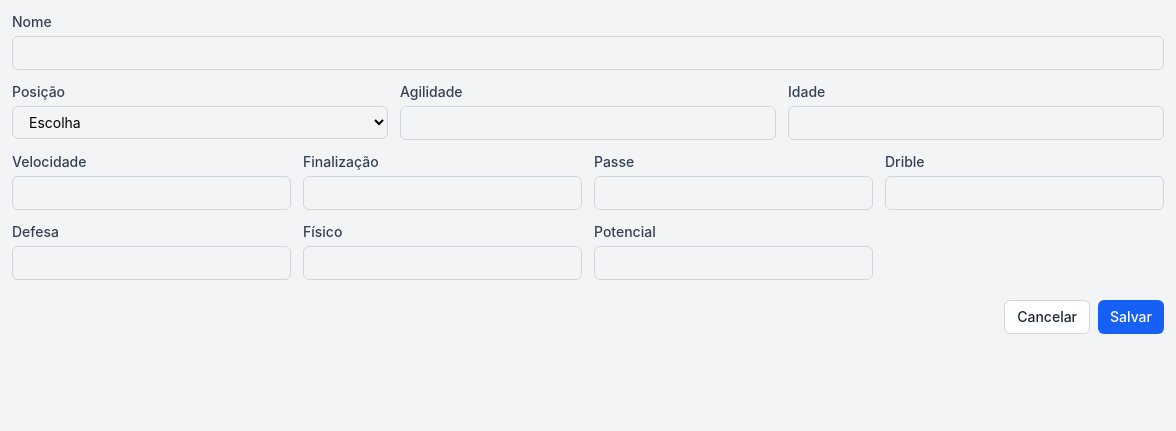
Test: PlayerForm › valida antes de enviar e mostra a mensagem junto ao campo
Click the button "Salvar" at (1131, 317), box [1098,300,1164,334]
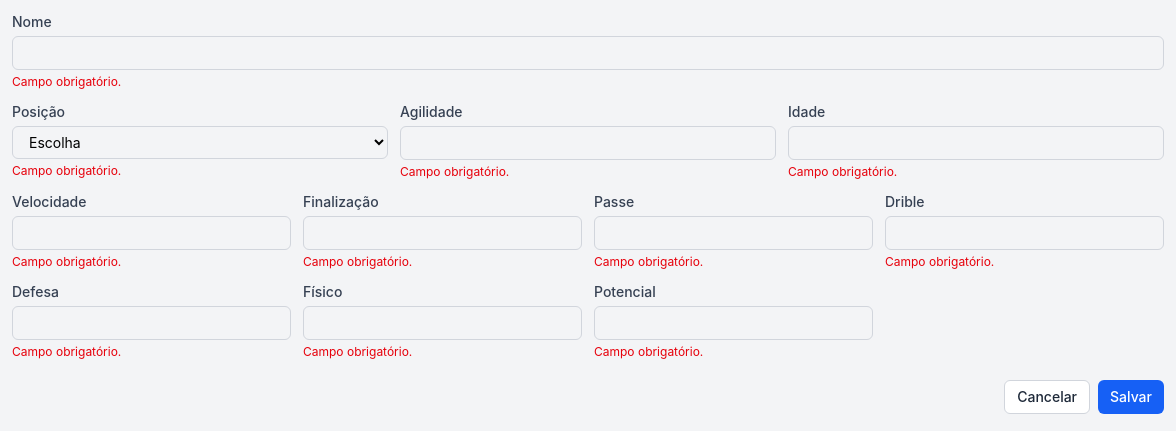
Now the text "Campo obrigatório." below "Nome" is shown, box [12,74,121,89]
